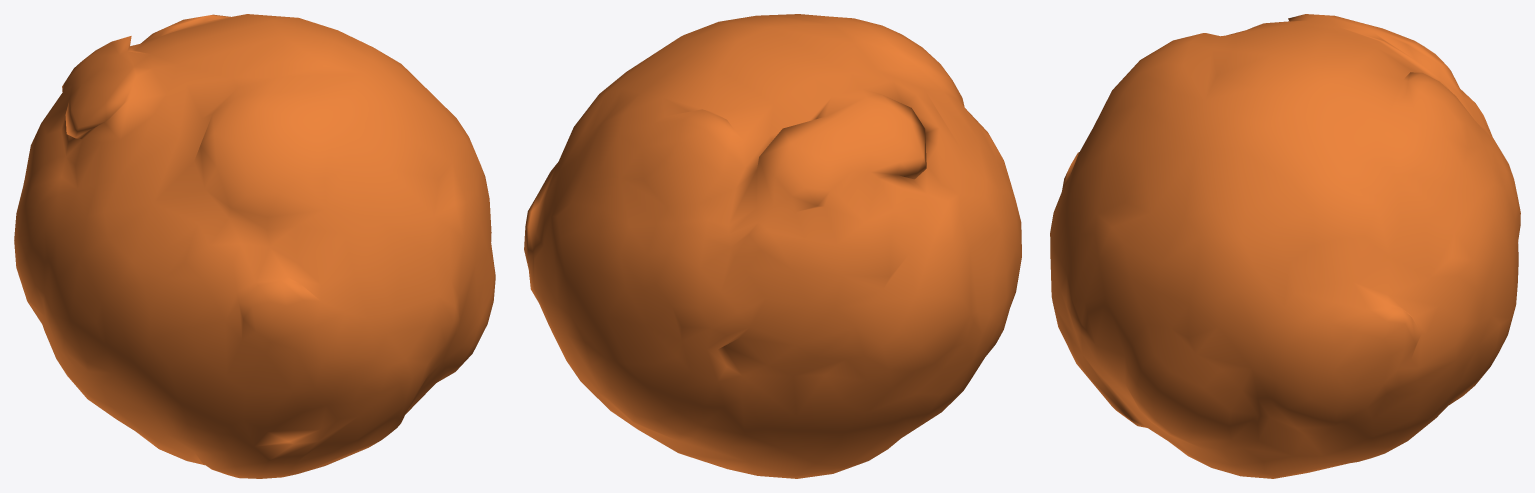
The model's file is p_nimbolium_splattershape_pose0.fbx.
The picture shows the model from 3 angles, left to right: view 1: azimuth 30°, elevation 25°; view 2: azimuth 150°, elevation 25°; view 3: azimuth 270°, elevation 25°; orthographic projection. The views are drawn at different scales.
Visible parts, largest first — view 1: gel.001; view 2: gel.001; view 3: gel.001.
Boxes of the visible parts, x1=… form: gel.001: x1=14, y1=14, x2=495, y2=478; gel.001: x1=524, y1=14, x2=1021, y2=478; gel.001: x1=1050, y1=14, x2=1520, y2=478.
Size of the model in its own units: 9.66 by 9.07 by 9.47.
